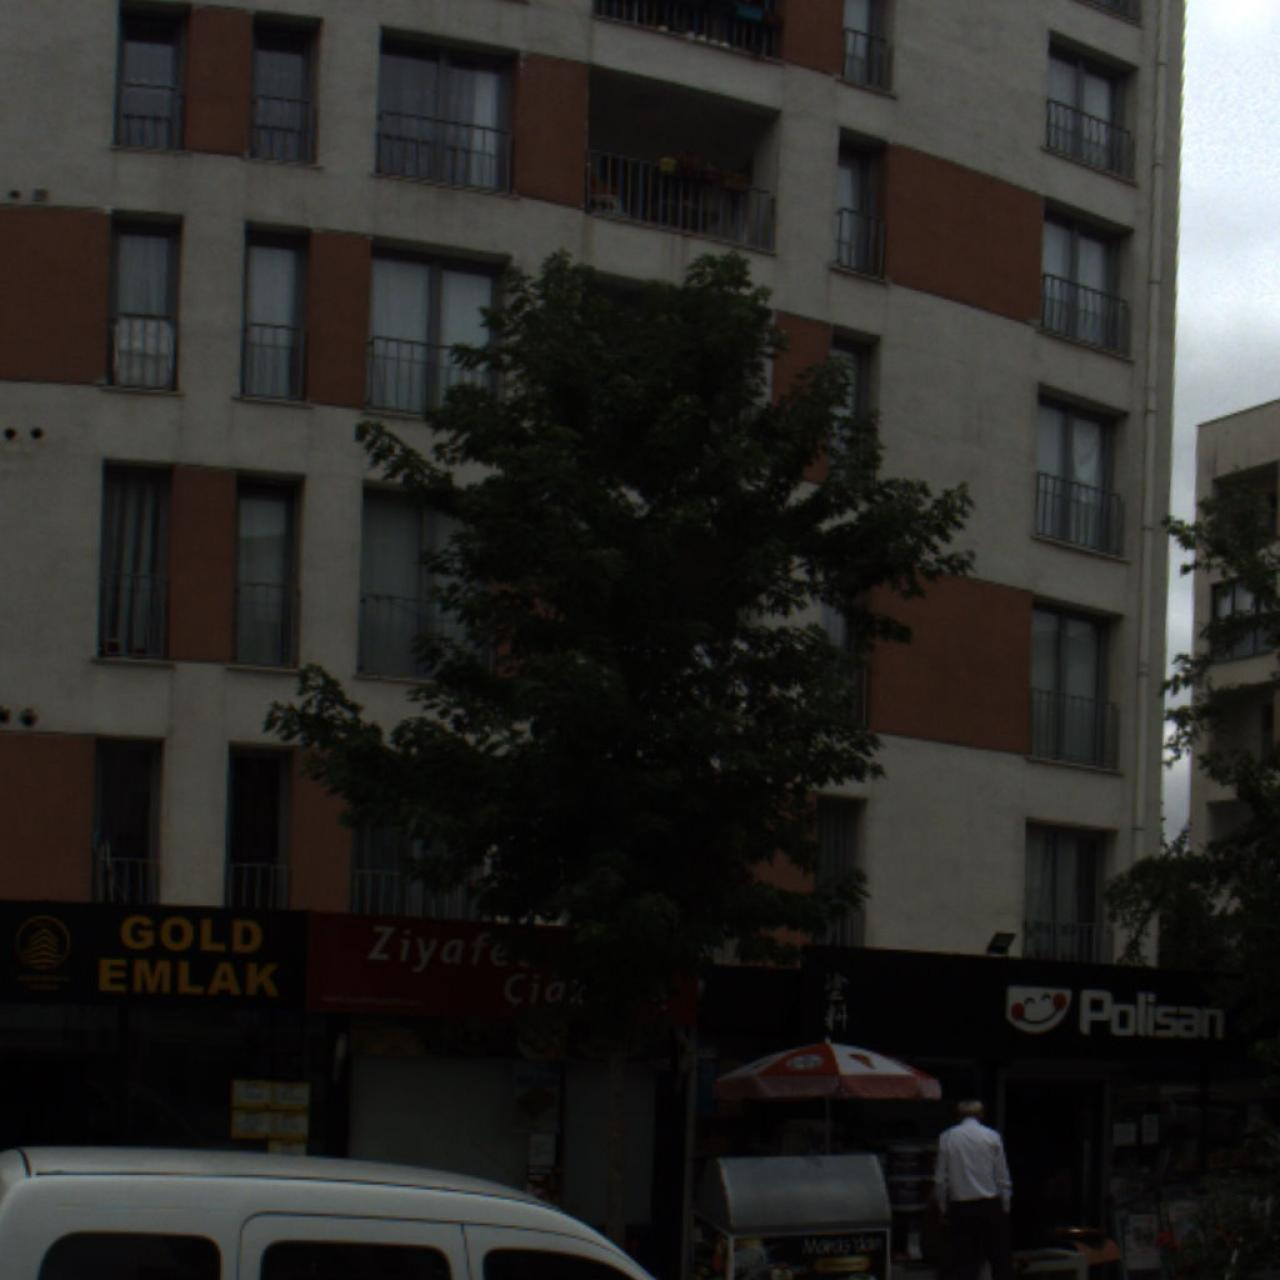SignStore: (802, 944, 1264, 1064), (312, 908, 699, 1024), (11, 899, 308, 1007)
